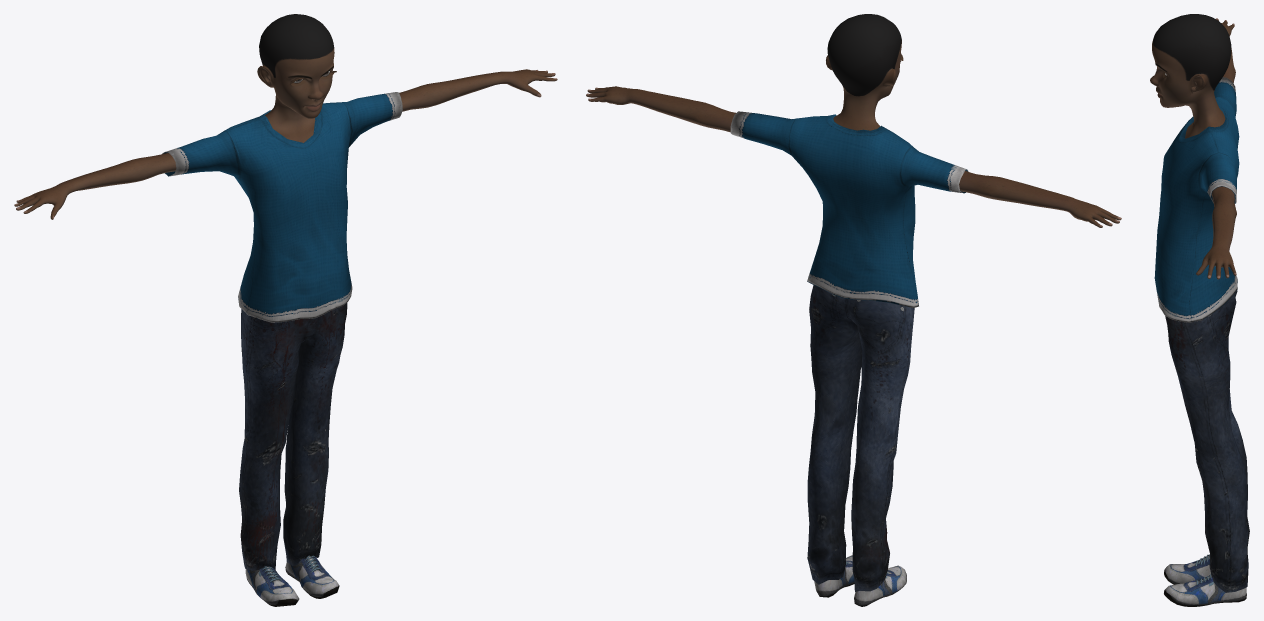
File: afro_boy.obj
3 views of the same model, side by side, from view 1: azimuth 30°, elevation 25°; view 2: azimuth 150°, elevation 25°; view 3: azimuth 270°, elevation 25° (orthographic).
Visible parts, largest first — view 1: Tops, Bottoms, Body, Shoes; view 2: Bottoms, Tops, Body, Shoes; view 3: Bottoms, Tops, Body, Shoes.
Boxes of the visible parts, left/top/right/bottom form: Tops: left=162, top=92, right=402, bottom=322; Bottoms: left=239, top=303, right=347, bottom=570; Body: left=14, top=14, right=557, bottom=219; Shoes: left=245, top=555, right=339, bottom=606; Bottoms: left=807, top=285, right=914, bottom=591; Tops: left=730, top=111, right=968, bottom=307; Body: left=586, top=14, right=1121, bottom=227; Shoes: left=814, top=555, right=906, bottom=606; Bottoms: left=1165, top=290, right=1249, bottom=592; Tops: left=1154, top=77, right=1239, bottom=322; Body: left=1150, top=14, right=1236, bottom=279; Shoes: left=1164, top=554, right=1246, bottom=606.
Bounding box in the file's own units: 163 × 167 × 26.23.
4 materials, 4 textured.
